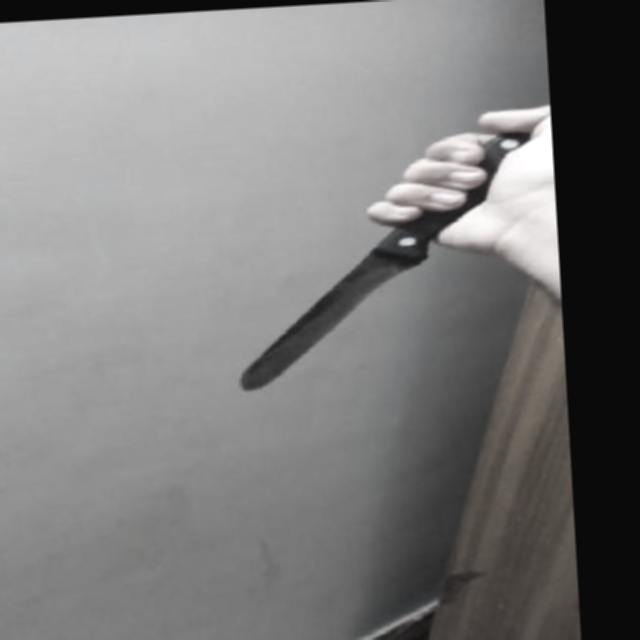Sharp-Object: (227, 133, 545, 390)
